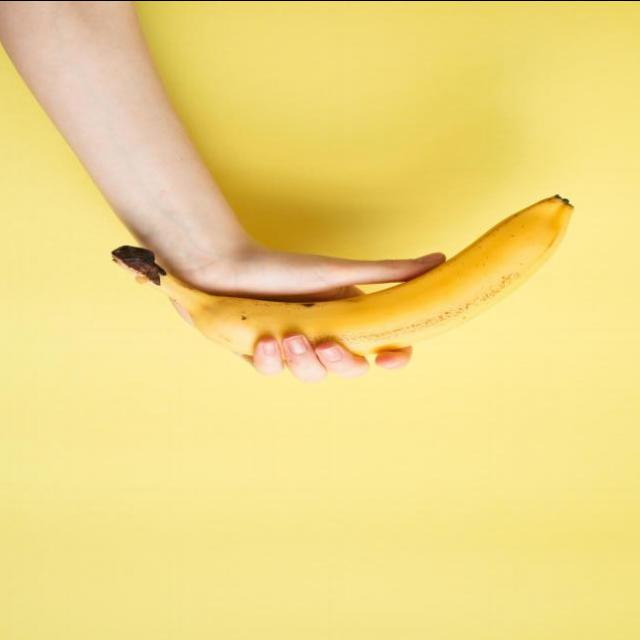banana: (111, 192, 574, 368)
